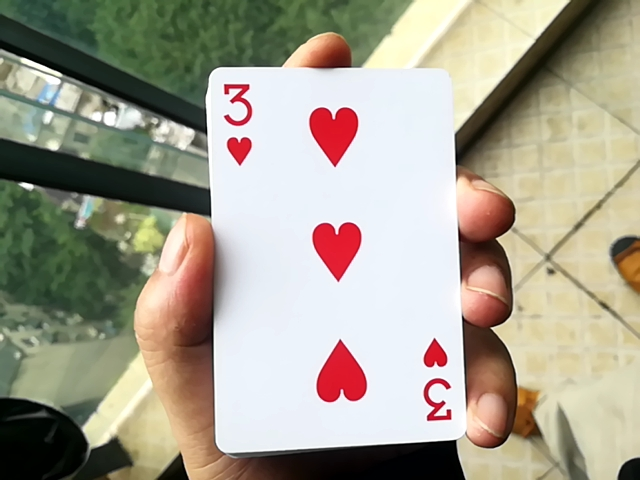hx 3: (202, 49, 461, 455)
